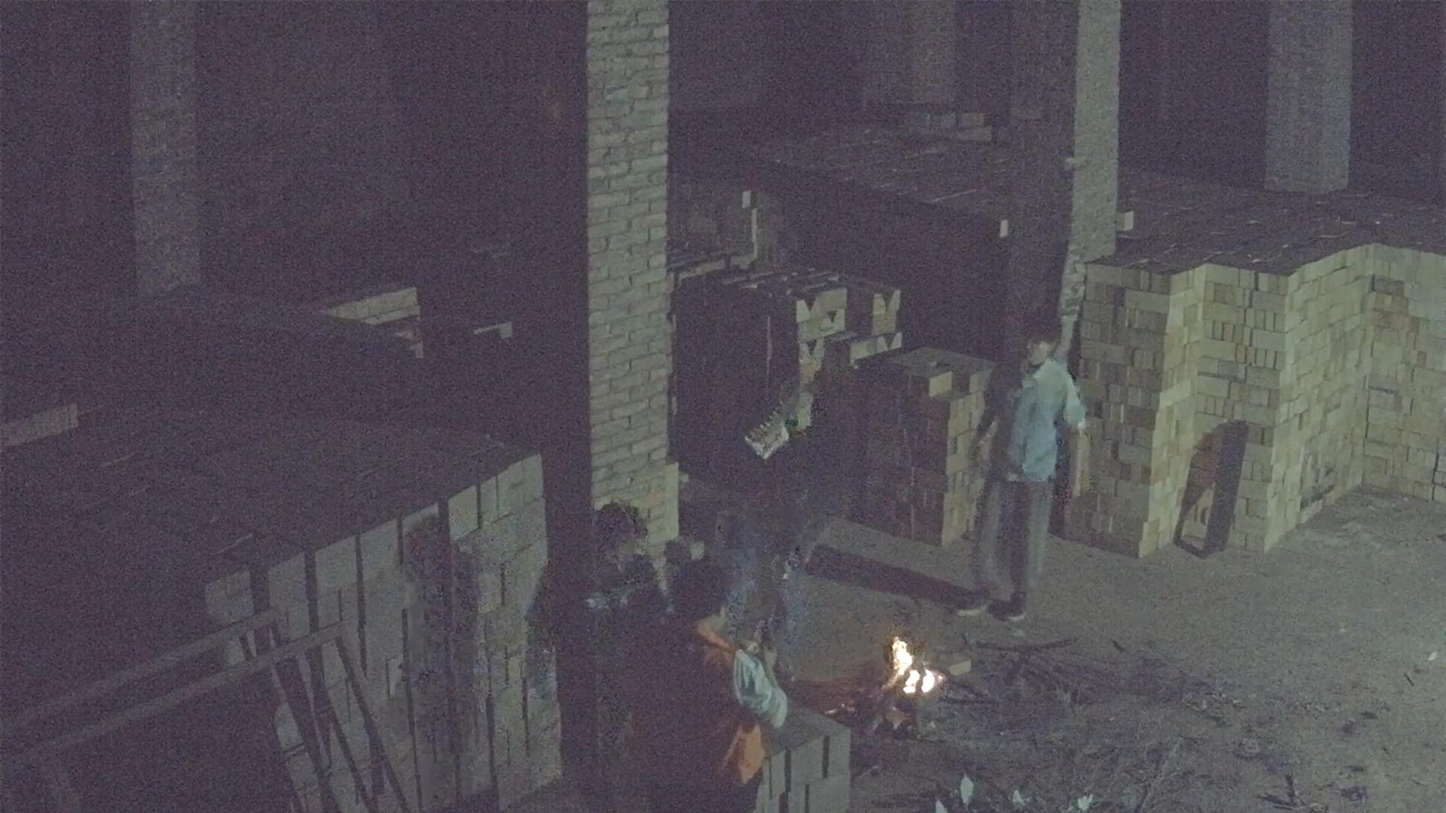fire: (891, 638, 944, 695)
